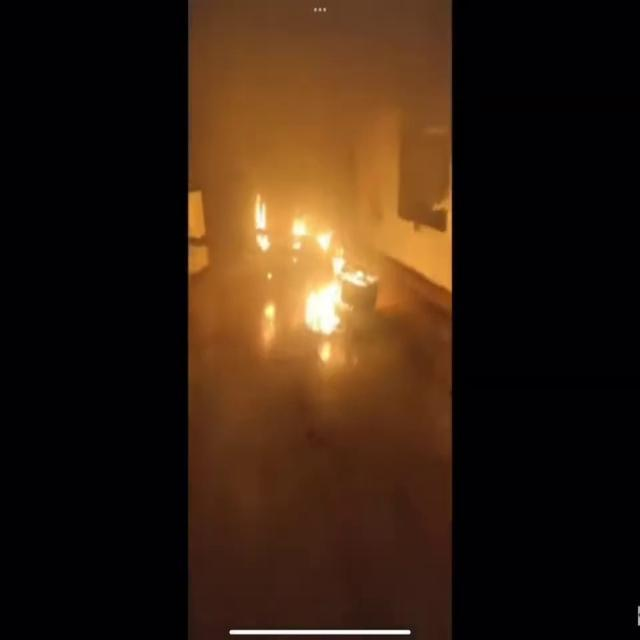Fire: (249, 185, 368, 351)
Smoke: (189, 0, 452, 214)
